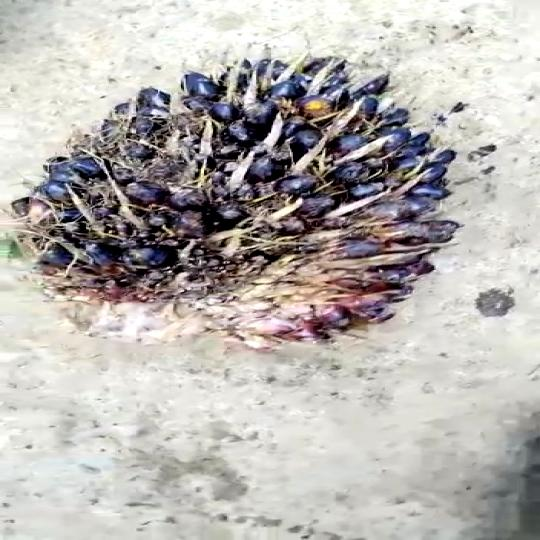mentah: (13, 36, 463, 364)
